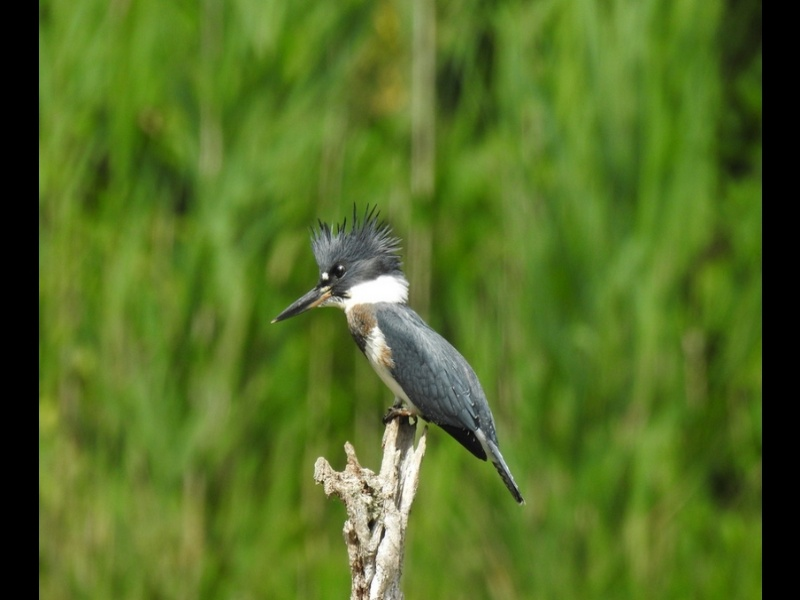kingfisher: (262, 197, 536, 515)
